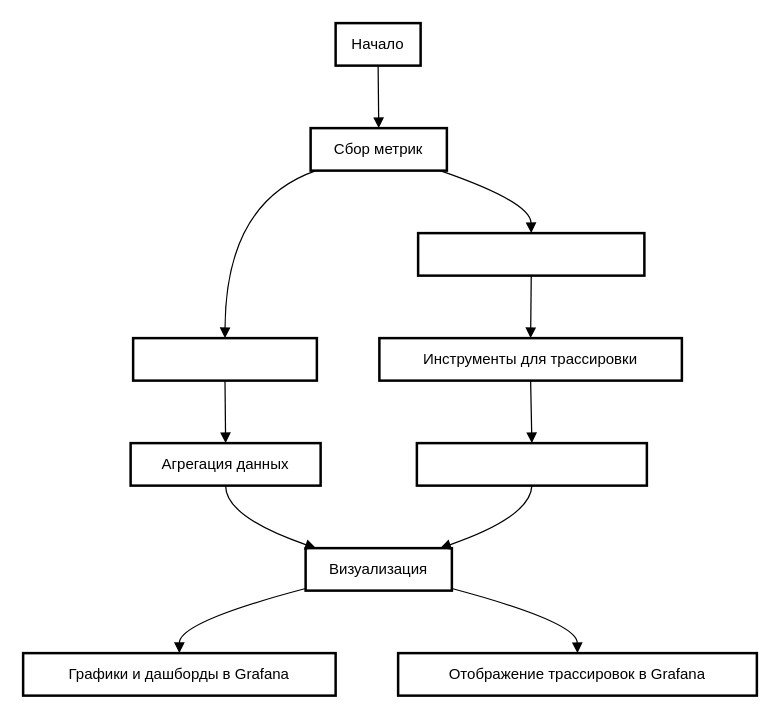
The diagram is 779 pixels wide and 718 high, and some of its shapes have lost their labels. Each missing label, with the centre of its shape:
Трассировка запросов: point 530,253
Хранение данных: point 224,358
Хранение трассировок: point 531,463
